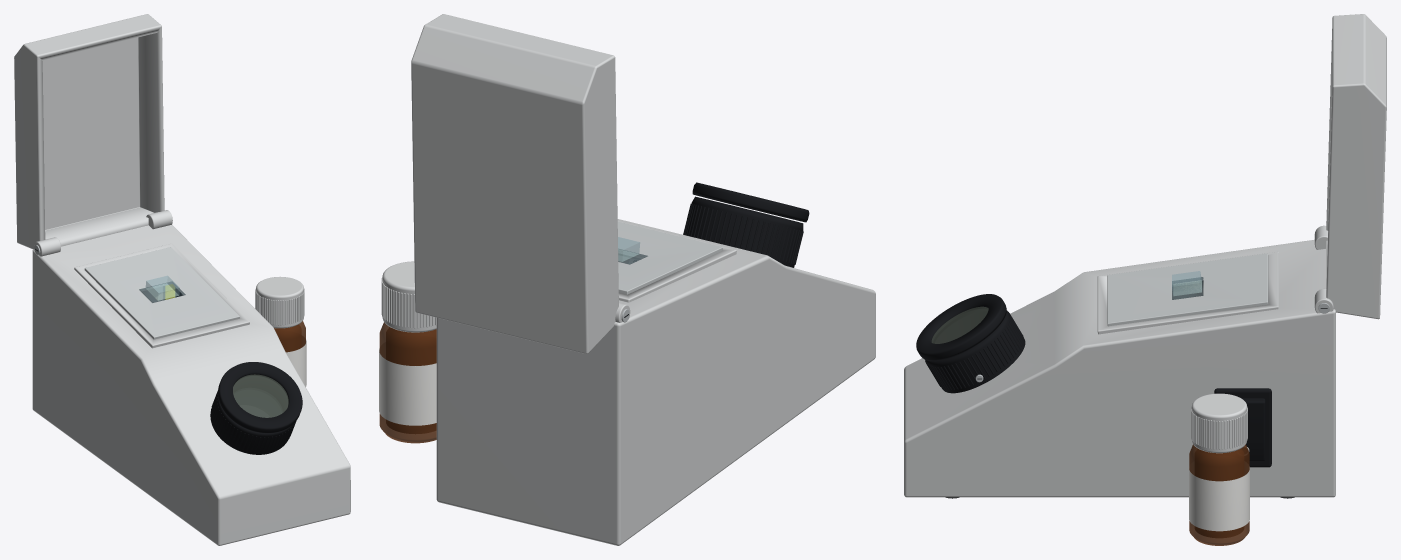
The picture shows the model from 3 angles, left to right: view 1: azimuth 30°, elevation 25°; view 2: azimuth 150°, elevation 25°; view 3: azimuth 270°, elevation 25°; orthographic projection. The views are drawn at different scales.
Visible parts, largest first — view 1: Refractometer_body, Refractometer_cover, Refractometer_metal_stage, Refractometer_polarizer, Refractometer_eyepiece, Refractometer_oil_bottle, Flat polished isotropic sample; view 2: Refractometer_body, Refractometer_cover, Refractometer_oil_bottle, Refractometer_metal_stage, Refractometer_eyepiece, Refractometer_polarizer; view 3: Refractometer_body, Refractometer_cover, Refractometer_metal_stage, Refractometer_oil_bottle, Refractometer_eyepiece, Refractometer_polarizer, Refractometer_power_switch, Flat polished isotropic sample.
Part boxes in pixels (left/top/right/bottom): Refractometer_body: left=32, top=225, right=350, bottom=545; Refractometer_cover: left=14, top=14, right=172, bottom=256; Refractometer_metal_stage: left=74, top=243, right=249, bottom=348; Refractometer_polarizer: left=218, top=362, right=302, bottom=433; Refractometer_eyepiece: left=210, top=378, right=296, bottom=454; Refractometer_oil_bottle: left=255, top=276, right=306, bottom=386; Flat polished isotropic sample: left=145, top=275, right=179, bottom=300; Refractometer_body: left=436, top=219, right=875, bottom=545; Refractometer_cover: left=411, top=14, right=630, bottom=353; Refractometer_oil_bottle: left=379, top=261, right=436, bottom=443; Refractometer_metal_stage: left=617, top=221, right=736, bottom=302; Refractometer_eyepiece: left=683, top=196, right=803, bottom=267; Refractometer_polarizer: left=692, top=182, right=809, bottom=222; Refractometer_body: left=904, top=239, right=1335, bottom=498; Refractometer_cover: left=1314, top=14, right=1386, bottom=319; Refractometer_metal_stage: left=1097, top=251, right=1278, bottom=334; Refractometer_oil_bottle: left=1189, top=393, right=1249, bottom=545; Refractometer_eyepiece: left=925, top=310, right=1025, bottom=393; Refractometer_polarizer: left=916, top=294, right=1006, bottom=361; Refractometer_power_switch: left=1241, top=398, right=1265, bottom=460; Flat polished isotropic sample: left=1172, top=271, right=1201, bottom=295.
Bounding box in the file's own units: 0.1128 × 0.1767 × 0.1845.
